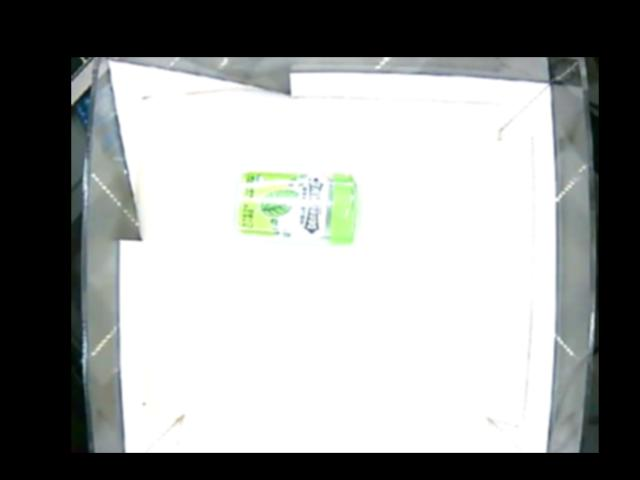Bottle: (233, 168, 358, 245)
